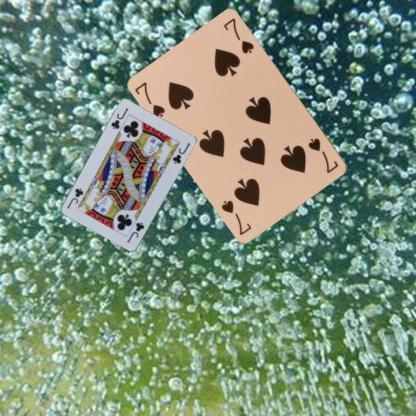7s: (132, 79, 167, 119), (306, 135, 340, 175)
Jc: (124, 219, 146, 244), (109, 105, 130, 131)
